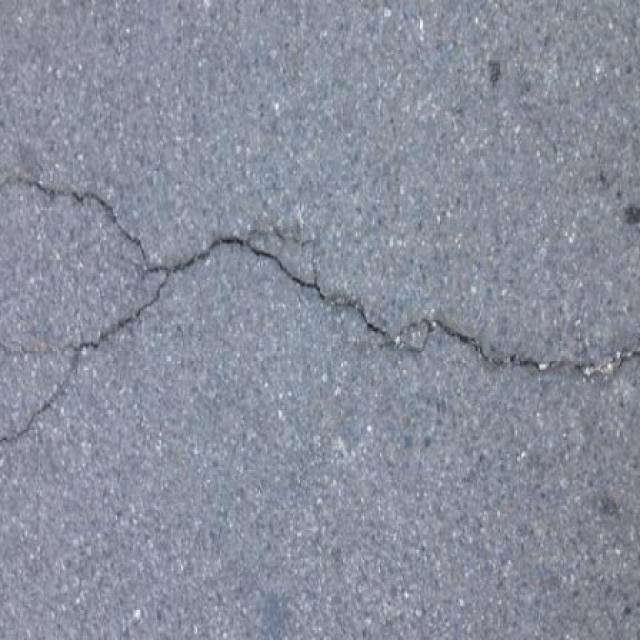Diagonal Crack: (0, 164, 640, 456)
